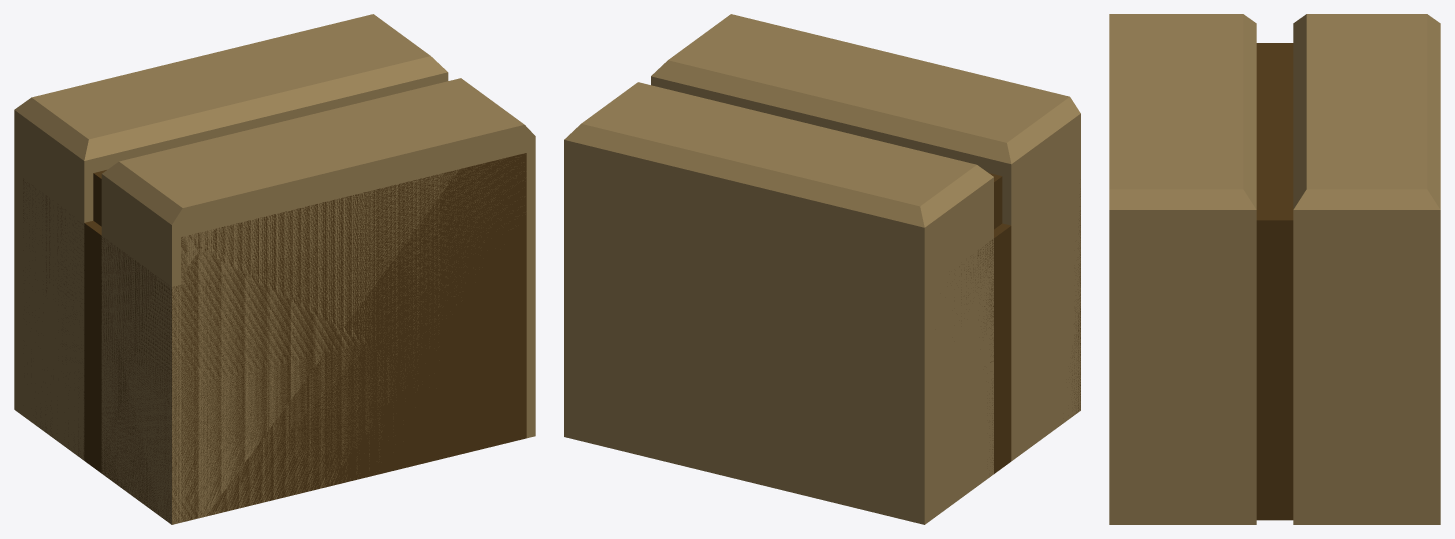
Rendered from newsha-159.glb.
The picture shows the model from 3 angles, left to right: view 1: azimuth 30°, elevation 25°; view 2: azimuth 150°, elevation 25°; view 3: azimuth 270°, elevation 25°; orthographic projection. The views are drawn at different scales.
Visible parts, largest first — view 1: newsha-159; view 2: newsha-159; view 3: newsha-159.
Part boxes in pixels (<box>): newsha-159: <box>14,14,535,524</box>; newsha-159: <box>564,14,1080,524</box>; newsha-159: <box>1109,14,1440,524</box>.
Size of the model in its own units: 1 by 0.825 by 0.75.
